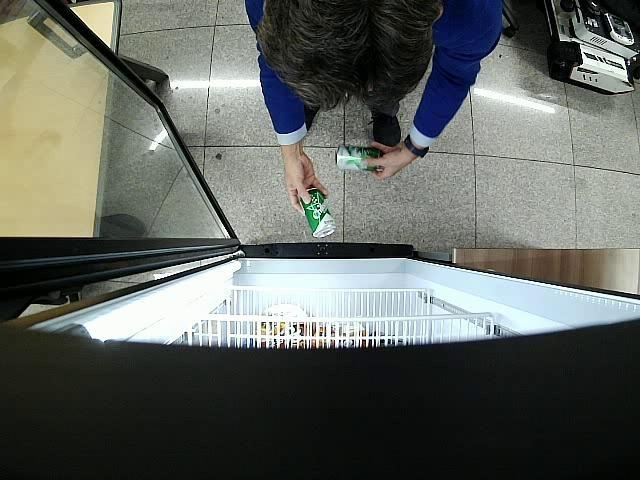12_chilsungCider: (300, 189, 336, 237), (336, 144, 383, 172)
